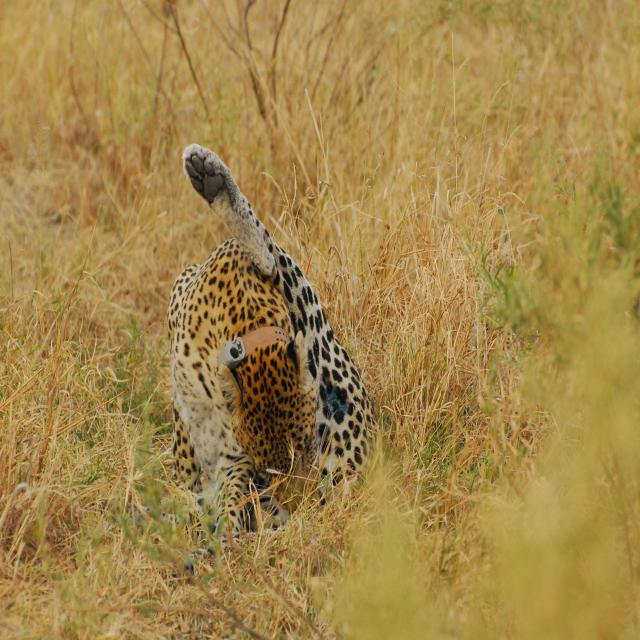Leopard: (151, 144, 368, 562)
